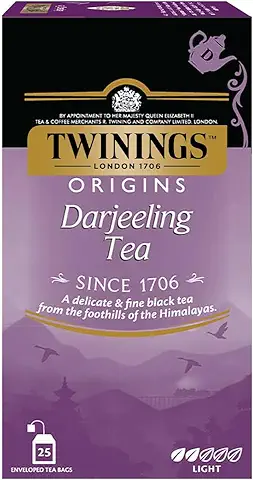Tea: (3, 5, 253, 479)
